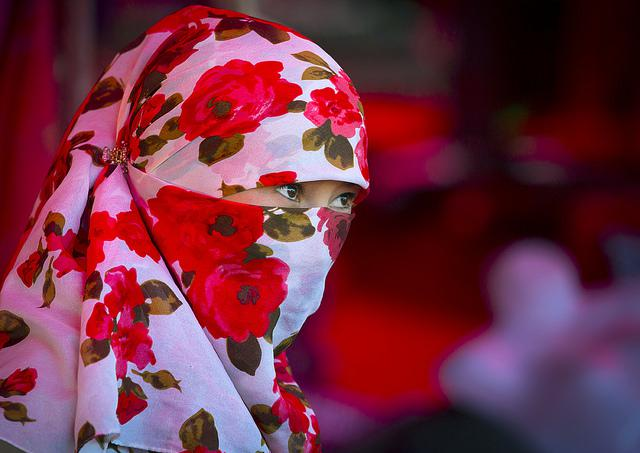OK: (193, 152, 357, 328)
